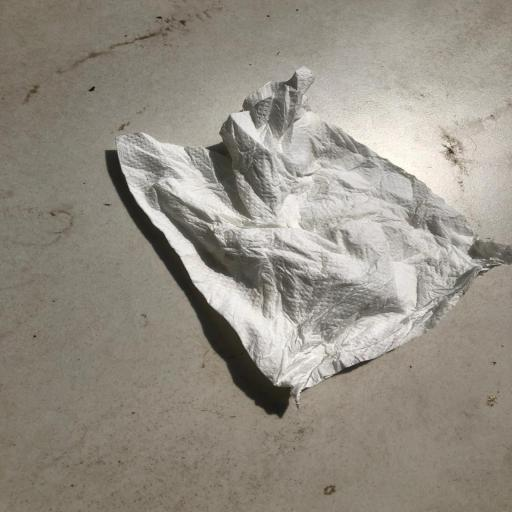waste: (88, 55, 506, 409)
